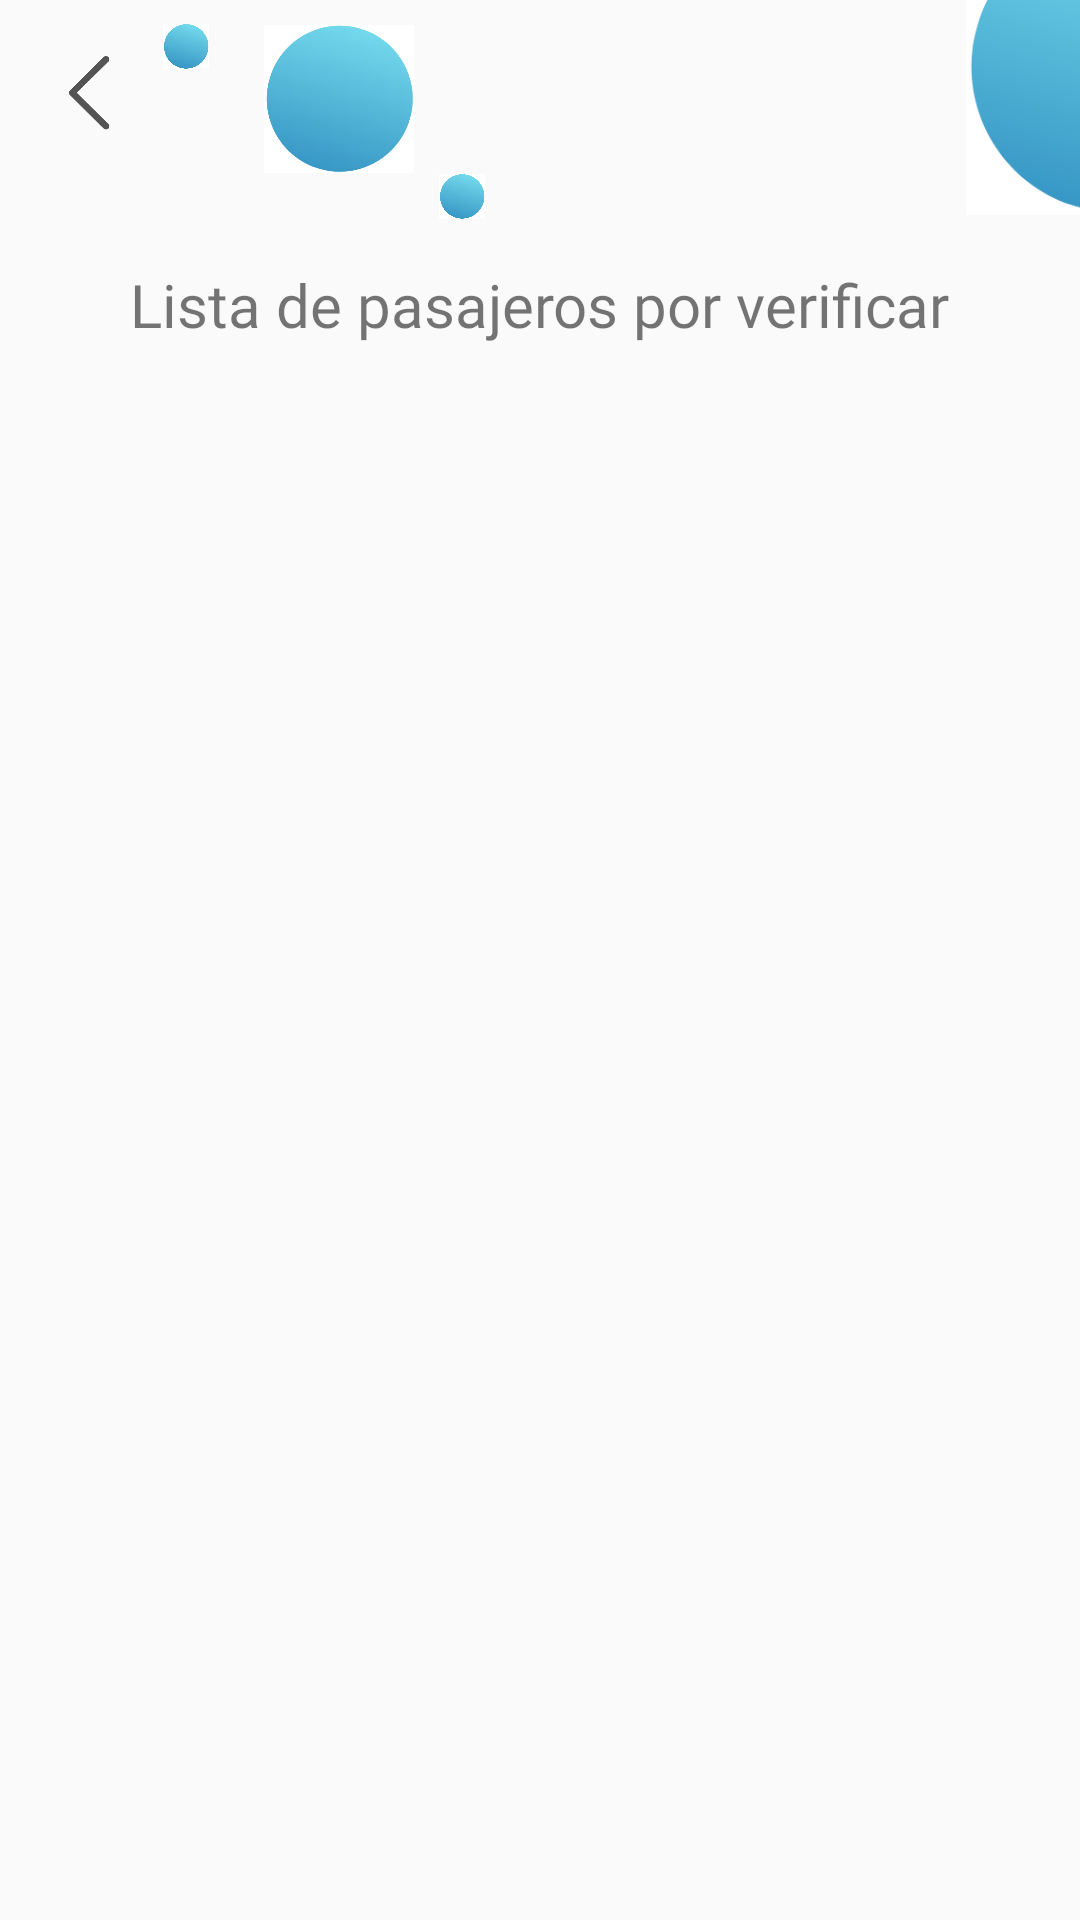

Icon bounding boxes for this 1080*1920 phone screenshot, format box(x1, y1, x2, y2):
back arrow: box(69, 56, 109, 130)
